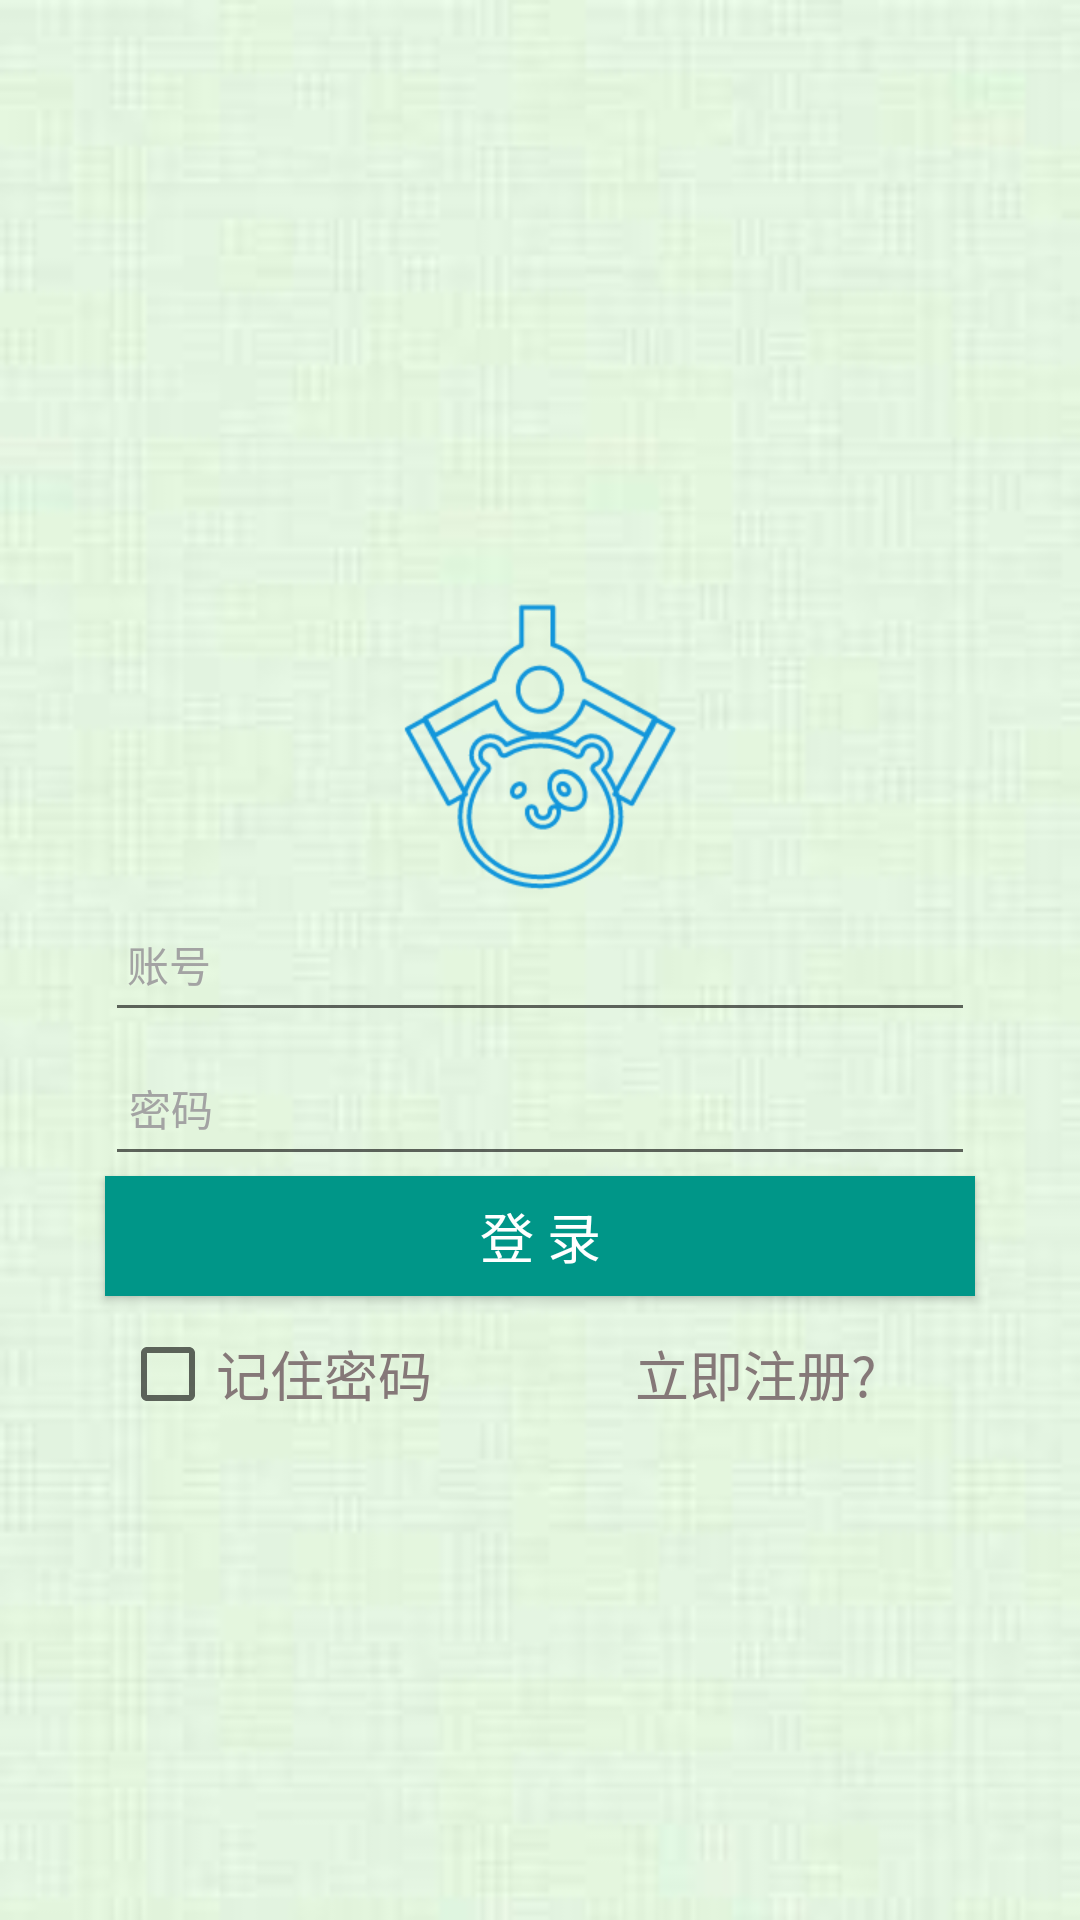

Named icons in this screenshot (1080w x 1920h) and their centers, (x=x, y=y):
wawaji: (x=540, y=747)
